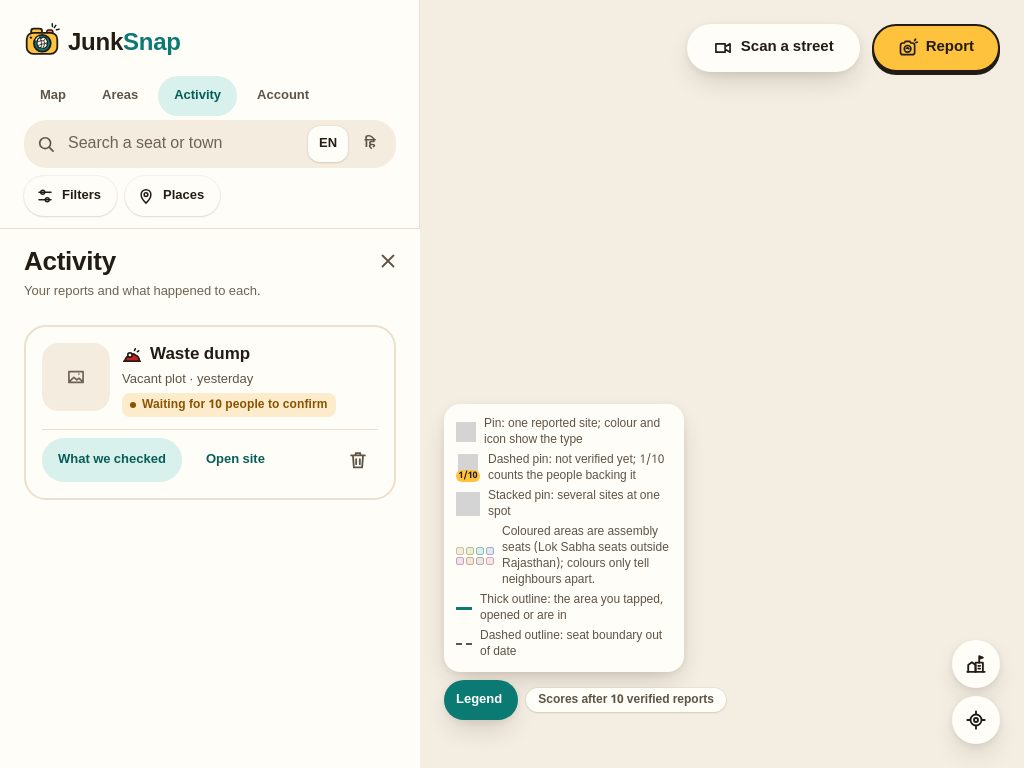
deleting from Activity › withdraws a report that backs an unverified site, then removes the row
The image size is (1024, 768).
What coordinates should you click on to do the following:
click the button named "Delete"
I would click on:
 (358, 460)
Its box is [338, 440, 378, 480].
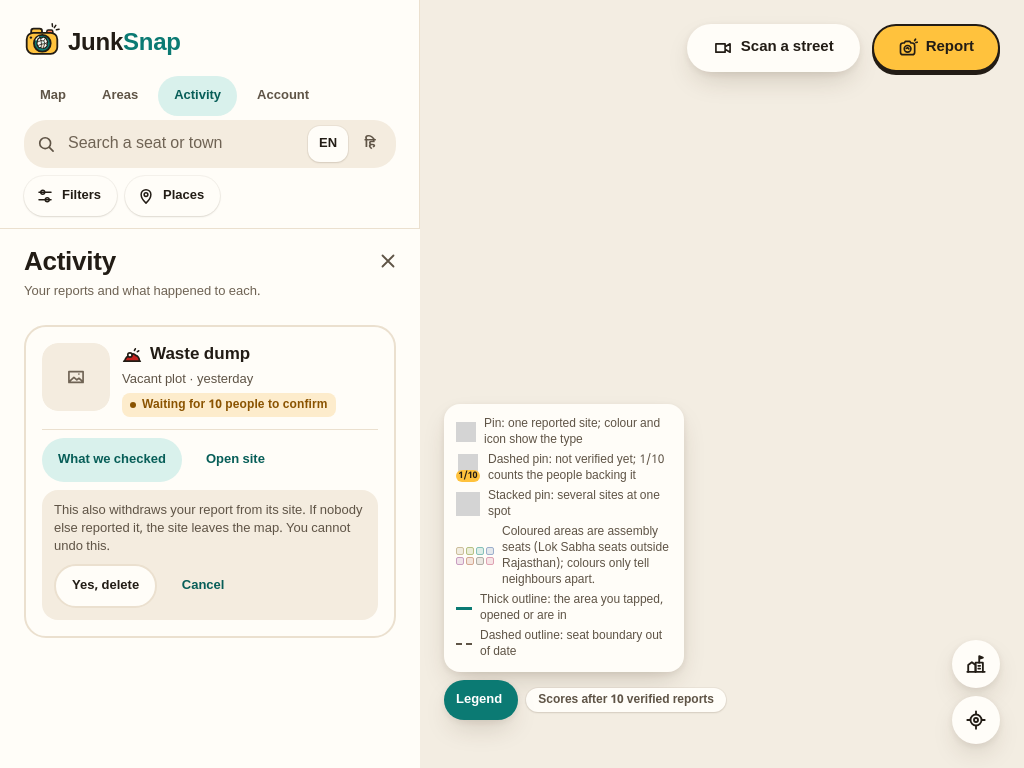
Expected: the text "This also withdraws your report from its site" is shown, [54, 502, 362, 555]
What coordinates should you click on to do the following:
click the button "Yes, delete"
I would click on:
 (106, 586)
Its box is [54, 564, 157, 608].
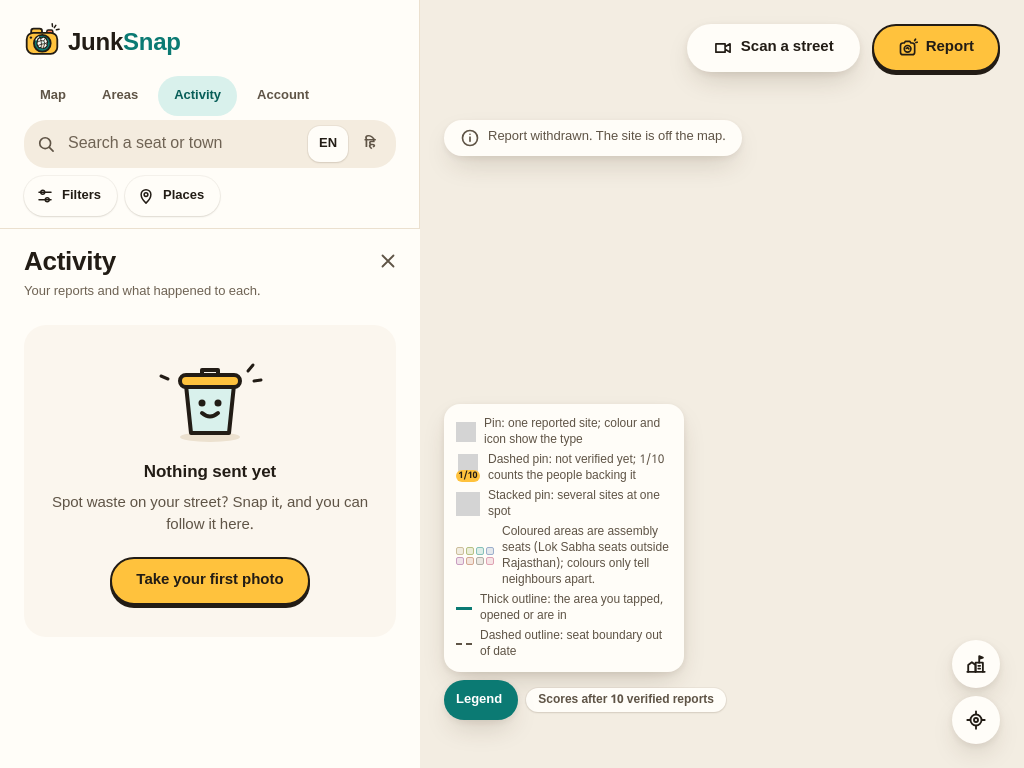
Expected: the text "Report withdrawn. The site is off the map." is shown, [488, 128, 726, 146]
